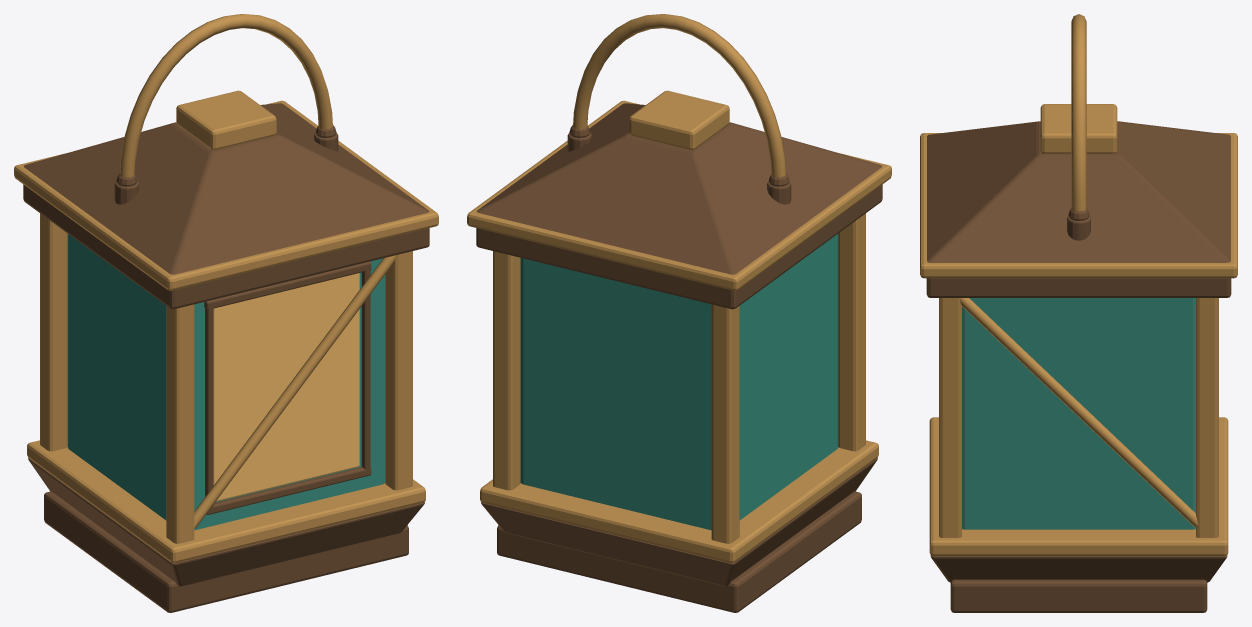
3 renders of one model, left to right at view 1: azimuth 30°, elevation 25°; view 2: azimuth 150°, elevation 25°; view 3: azimuth 270°, elevation 25°, orthographic.
Visible parts, largest first — view 1: Hipped roof, Pane body, Front amber window, Lower golden lip, Foot plinth, Bottom flare, Roof trim, Crown rail, Corner post, Corner post.002, Corner post.001, Carry handle (+6 smaller); view 2: Pane body, Hipped roof, Lower golden lip, Foot plinth, Bottom flare, Roof trim, Crown rail, Corner post.001, Corner post.003, Corner post, Carry handle, Vent cap; view 3: Pane body, Hipped roof, Lower golden lip, Foot plinth, Roof trim, Bottom flare, Crown rail, Corner post.002, Corner post.003, Return guard, Vent cap, Carry handle (+1 smaller).
Part boxes in pixels (x1=…): Hipped roof: x1=23, y1=103, x2=429, y2=274; Pane body: x1=67, y1=234, x2=385, y2=530; Front amber window: x1=213, y1=273, x2=359, y2=501; Lower golden lip: x1=27, y1=440, x2=425, y2=563; Foot plinth: x1=44, y1=491, x2=408, y2=612; Bottom flare: x1=28, y1=458, x2=424, y2=586; Roof trim: x1=14, y1=100, x2=438, y2=290; Crown rail: x1=23, y1=184, x2=429, y2=309; Corner post: x1=166, y1=304, x2=194, y2=543; Corner post.002: x1=385, y1=251, x2=412, y2=490; Corner post.001: x1=40, y1=213, x2=67, y2=451; Carry handle: x1=120, y1=14, x2=332, y2=177; Pane body: x1=520, y1=234, x2=838, y2=530; Hipped roof: x1=476, y1=103, x2=882, y2=274; Lower golden lip: x1=480, y1=440, x2=878, y2=563; Foot plinth: x1=497, y1=491, x2=861, y2=612; Bottom flare: x1=481, y1=458, x2=877, y2=586; Roof trim: x1=467, y1=100, x2=891, y2=290; Crown rail: x1=476, y1=184, x2=882, y2=309; Corner post.001: x1=711, y1=304, x2=739, y2=543; Corner post.003: x1=493, y1=251, x2=520, y2=490; Corner post: x1=838, y1=213, x2=865, y2=451; Carry handle: x1=573, y1=14, x2=785, y2=177; Vent cap: x1=629, y1=90, x2=729, y2=149; Pane body: x1=962, y1=298, x2=1195, y2=529; Hipped roof: x1=927, y1=121, x2=1230, y2=262; Lower golden lip: x1=929, y1=417, x2=1228, y2=556; Foot plinth: x1=950, y1=579, x2=1207, y2=612; Roof trim: x1=920, y1=133, x2=1237, y2=278; Bottom flare: x1=930, y1=555, x2=1227, y2=582; Crown rail: x1=926, y1=278, x2=1231, y2=297; Corner post.002: x1=939, y1=298, x2=961, y2=537; Corner post.003: x1=1196, y1=298, x2=1218, y2=537; Return guard: x1=959, y1=298, x2=1198, y2=526; Vent cap: x1=1040, y1=104, x2=1117, y2=153; Carry handle: x1=1071, y1=14, x2=1086, y2=211.
Bounding box in the file's own units: 0.1627 × 0.3 × 0.1627.
